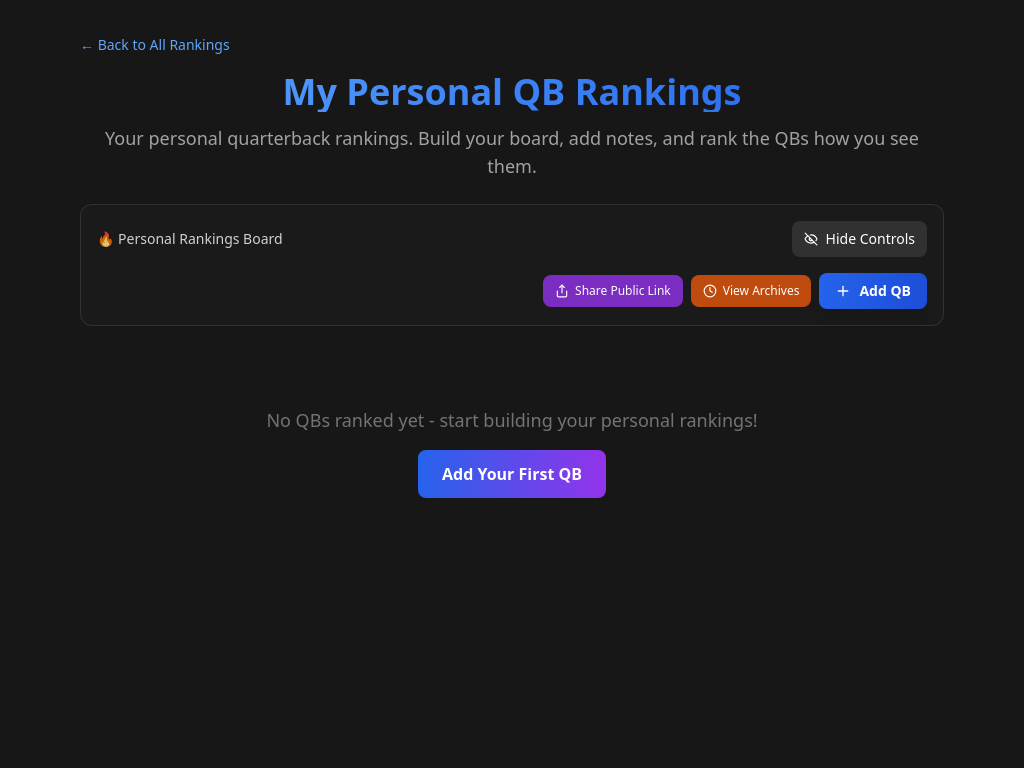
Personal rankings editor › excludes retired quarterbacks from Add All but leaves them addable
Expected: the text "No QBs ranked yet - start building your personal rankings!" is shown, [266,408,758,432]
Click the button "Add Your First QB". click: point(512, 474)
box: [418,450,606,498]
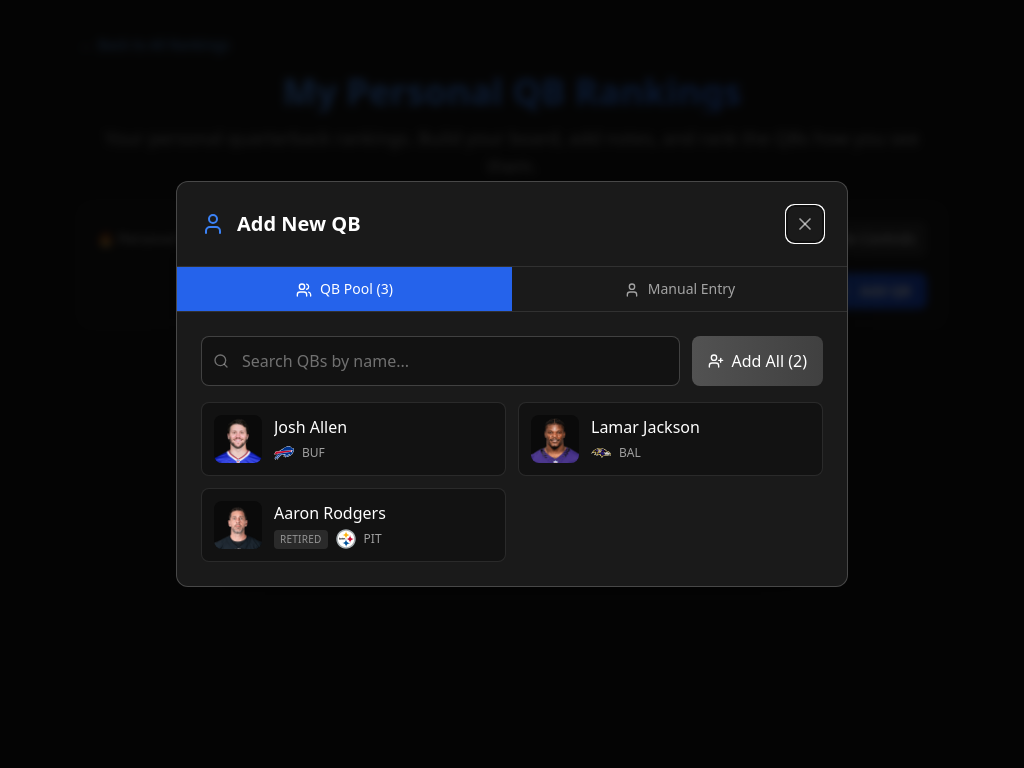
Now the button "Add All (2)" is shown, box [692,336,823,386]
Now the text "Aaron Rodgers" is shown, box [274,502,386,524]
Now the text "Retired" is shown, box [274,530,328,548]
